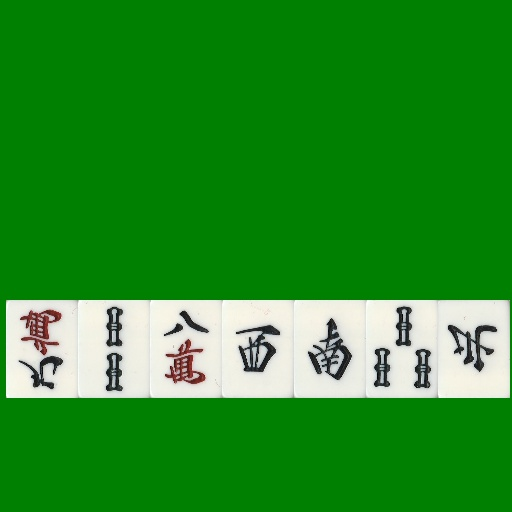2s: (78, 300, 150, 398)
3s: (366, 300, 438, 398)
8m: (150, 300, 222, 398)
9m: (6, 300, 78, 398)
north: (438, 300, 510, 398)
south: (294, 300, 366, 398)
west: (222, 300, 294, 398)
